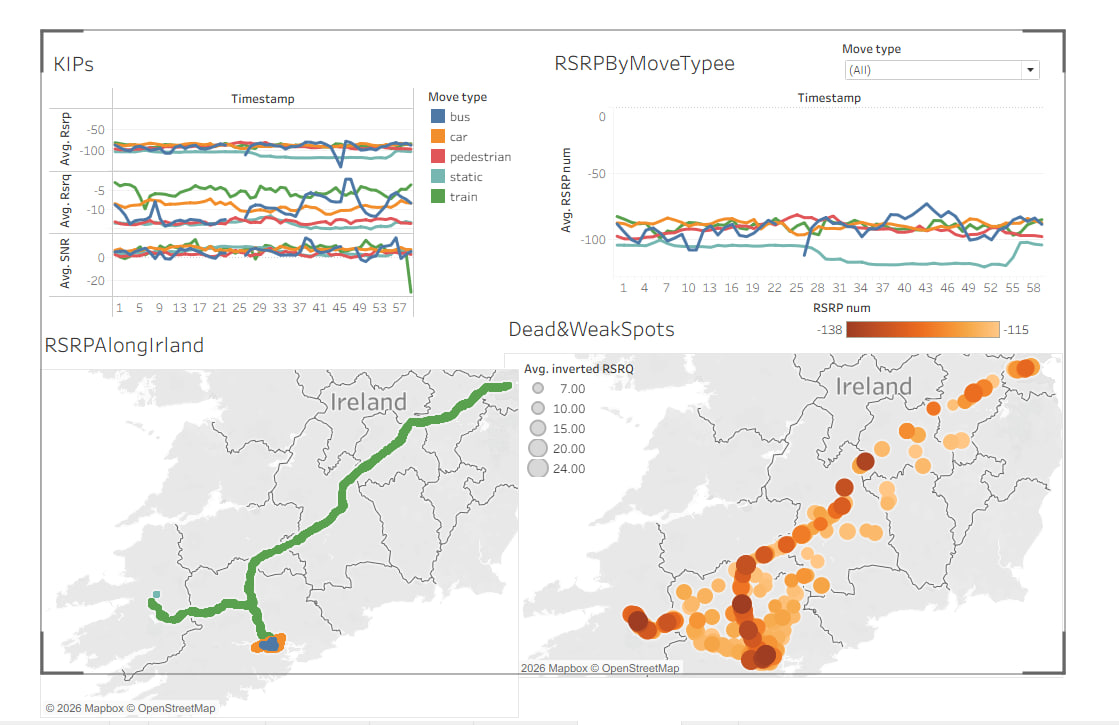

What the dashboard file says about the page in this screenshot:
{"tool":"tableau","page":{"name":"Dashboard 3","canvas":[650,860],"ordinal":2},"visuals":[{"type":"worksheet","title":"KIPs","mark":"Automatic","rows":["RSRP","RSRQ","SNR"],"cols":["Timestamp"],"box":[411,121.8,216,285.7]},{"type":"worksheet","title":"RSRPByMoveTypee","mark":"Automatic","rows":["RSRP_num"],"cols":["Timestamp"],"box":[92,150.8,216,285.7]},{"type":"legend","title":"RSRPByMoveTypee","param":"[federated.1g05ngu07cpnk219c3p2h0f8j4o8].[none:source_folder:nk]","box":[308,150.8,140,171.1]},{"type":"legend","title":"Dead&WeakSpots","param":"[federated.1g05ngu07cpnk219c3p2h0f8j4o8].[avg:Calculation_0803497639833600:qk]","box":[248,474.2,140,171.1]},{"type":"worksheet","title":"Dead&WeakSpots","mark":"Circle","rows":["Latitude"],"cols":["Longitude"],"box":[408,474.2,216,285.7]},{"type":"legend","title":"Dead&WeakSpots","param":"[federated.1g05ngu07cpnk219c3p2h0f8j4o8].[none:RSRP_num:qk]","box":[233,496,140,110.2]},{"type":"worksheet","title":"RSRPAlongIrland","mark":"Circle","rows":["Latitude"],"cols":["Longitude"],"box":[102,507.6,216,285.7]},{"type":"legend","title":"RSRPAlongIrland","param":"[federated.1g05ngu07cpnk219c3p2h0f8j4o8].[none:RSRP_num:qk]","box":[318,507.6,140,229.1]}]}

Visuals, with their boxes on the page's 650x860 design canvas (x1, y1, x2, y2). These are canvas units, not pixel positions in the 1119x725 screenshot, which may show the page scaled, cropped or inside an application window:
"KIPs" worksheet: Rect(411, 122, 627, 408)
"RSRPByMoveTypee" worksheet: Rect(92, 151, 308, 436)
"RSRPByMoveTypee" legend: Rect(308, 151, 448, 322)
"Dead&WeakSpots" legend: Rect(248, 474, 388, 645)
"Dead&WeakSpots" worksheet (Circle marks): Rect(408, 474, 624, 760)
"Dead&WeakSpots" legend: Rect(233, 496, 373, 606)
"RSRPAlongIrland" worksheet (Circle marks): Rect(102, 508, 318, 793)
"RSRPAlongIrland" legend: Rect(318, 508, 458, 737)
